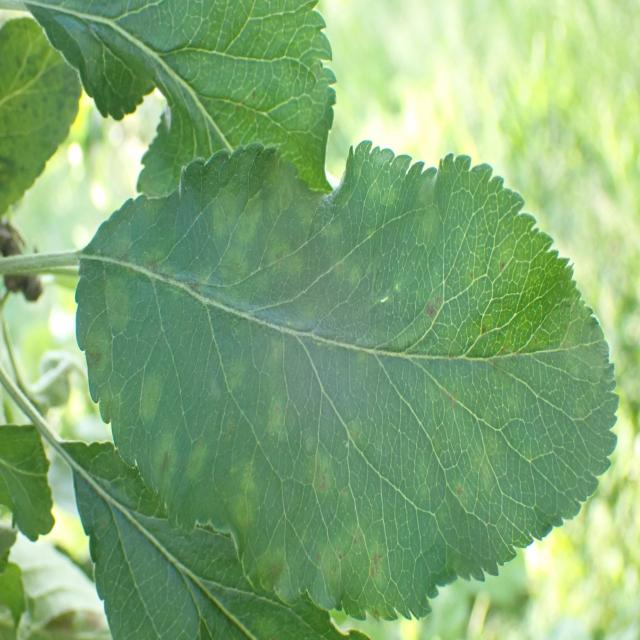scab: (85, 169, 605, 609)
